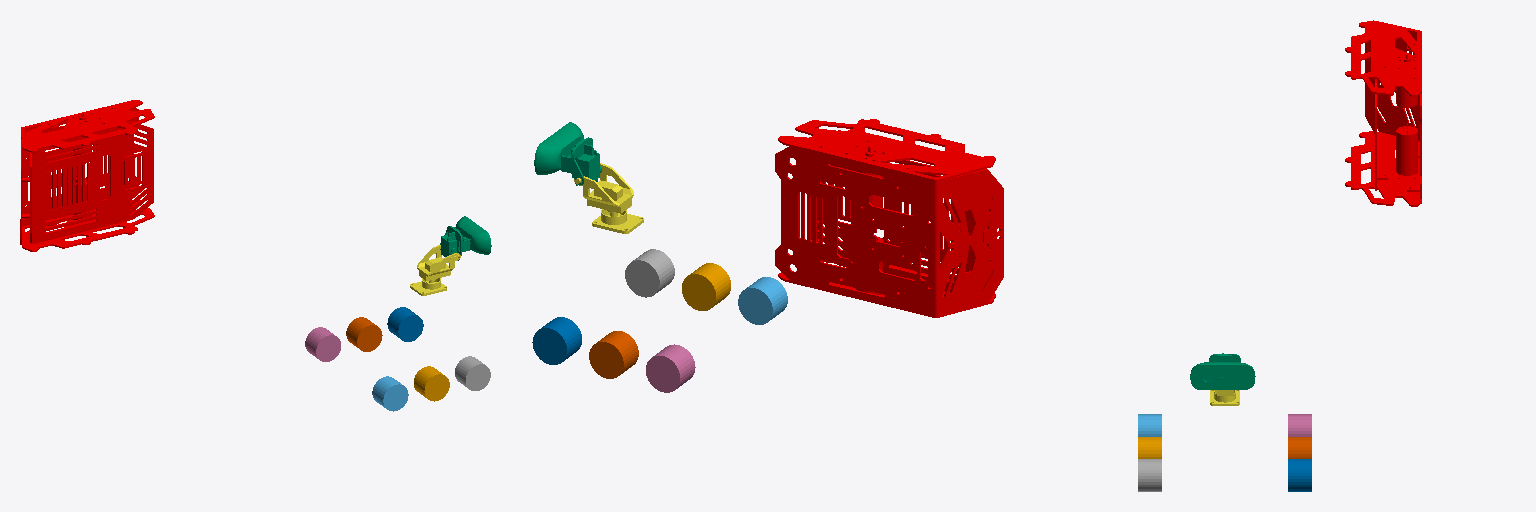
URDF robot description (robot):
<?xml version="1.0" ?>
<!-- =================================================================================== -->
<!-- |    This document was autogenerated by xacro from /catkin_ws/src/ros_tank/urdf/robot.xacro | -->
<!-- |    EDITING THIS FILE BY HAND IS NOT RECOMMENDED                                 | -->
<!-- =================================================================================== -->
<robot name="robot">
    <!-- Colors -->
    <gazebo reference="link_chassis">
        <material>Gazebo/Blue</material>
        <plugin name="gazebo_ros_control">
            <robotNamespace>/</robotNamespace>
        </plugin>
    </gazebo>
    <gazebo reference="link_front_left_wheel">
        <material>Gazebo/Black</material>
        <mu1>0</mu1>
        <mu2>0</mu2>
    </gazebo>
    <gazebo reference="link_rear_right_wheel">
        <material>Gazebo/Black</material>
        <mu1>0</mu1>
        <mu2>0</mu2>
    </gazebo>
    <gazebo reference="link_rear_left_wheel">
        <material>Gazebo/Black</material>
        <mu1>0</mu1>
        <mu2>0</mu2>
    </gazebo>
    <gazebo reference="link_front_right_wheel">
        <material>Gazebo/Black</material>
        <mu1>0</mu1>
        <mu2>0</mu2>
    </gazebo>
    <gazebo reference="link_middle_right_wheel">
        <material>Gazebo/Black</material>
        <mu1>0.1</mu1>
        <mu2>0.1</mu2>
    </gazebo>
    <gazebo reference="link_middle_left_wheel">
        <material>Gazebo/Black</material>
        <mu1>0.1</mu1>
        <mu2>0.1</mu2>
    </gazebo>
    <!-- Gazebo tags - Laser scan -->
    <gazebo reference="joint_laser_scan_chassis">
        <preserveFixedJoint>true</preserveFixedJoint>
    </gazebo>
    <gazebo reference="link_laser_scan">
        <material>Gazebo/DarkGrey</material>
    </gazebo>
    <!-- <gazebo reference="joint_chassis_left_front_wheel">
        <preserveFixedJoint>true</preserveFixedJoint>
    </gazebo>
    <gazebo reference="joint_chassis_left_rear_wheel">
        <preserveFixedJoint>true</preserveFixedJoint>
    </gazebo>
    <gazebo reference="joint_chassis_right_front_wheel">
        <preserveFixedJoint>true</preserveFixedJoint>
    </gazebo>
    <gazebo reference="joint_chassis_right_rear_wheel">
        <preserveFixedJoint>true</preserveFixedJoint>
    </gazebo>  
     -->
    <gazebo reference="link_laser_scan">
        <sensor name="head_hokuyo_sensor" type="ray">
            <pose>0 0 0 0 0 0</pose>
            <visualize>true</visualize>
            <update_rate>20</update_rate>
            <ray>
                <scan>
                    <horizontal>
                        <samples>720</samples>
                        <resolution>1</resolution>
                        <min_angle>-3.14</min_angle>
                        <max_angle>3.14</max_angle>
                    </horizontal>
                </scan>
                <range>
                    <min>0.20</min>
                    <max>12.0</max>
                    <resolution>0.01</resolution>
                </range>
                <noise>
                    <type>gaussian</type>
                    <mean>0.0</mean>
                    <stddev>0.01</stddev>
                </noise>
            </ray>
            <plugin filename="libgazebo_ros_laser.so" name="gazebo_ros_head_hokuyo_controller">
                <topicName>/laser/scan</topicName>
                <frameName>link_chassis</frameName>
            </plugin>
        </sensor>
    </gazebo>
    <!-- camera -->
    <gazebo reference="camera_link">
        <sensor name="camera_robot" type="camera">
            <camera>
                <pose>0 0 0 0 0 0</pose>
                <visualize>true</visualize>
                <update_rate>10</update_rate>
                <horizontal_fov>1.089</horizontal_fov>
                <image>
                    <format>R8G8B8</format>
                    <width>640</width>
                    <height>480</height>
                </image>
                <noise>
                    <type>gaussian</type>
                    <mean>0.0</mean>
                    <stddev>0.007</stddev>
                </noise>
            </camera>
            <plugin filename="libgazebo_ros_camera.so" name="camera_controller">
                <alwaysOn>true</alwaysOn>
                <updateRate>0.0</updateRate>
                <imageTopicName>image_raw</imageTopicName>
                <cameraName>camera</cameraName>
                <cameraInfoTopicName>camera_info</cameraInfoTopicName>
                <frameName>link_chassis</frameName>
            </plugin>
        </sensor>
    </gazebo>
    <gazebo>
        <plugin filename="libgazebo_ros_diff_drive.so" name="differential_drive_controller">
            <alwaysOn>true</alwaysOn>
            <updateRate>20</updateRate>
            <leftJoint>joint_chassis_left_middle_wheel</leftJoint>
            <rightJoint>joint_chassis_right_middle_wheel</rightJoint>
            <wheelSeparation>0.14</wheelSeparation>
            <wheelDiameter>0.04</wheelDiameter>
            <torque>10</torque>
            <wheelTorque>5</wheelTorque>
            <commandTopic>cmd_vel</commandTopic>
            <odometryTopic>odom</odometryTopic>
            <odometryFrame>odom</odometryFrame>
            <robotBaseFrame>link_chassis</robotBaseFrame>
            <publishWheelTF>false</publishWheelTF>
            <publishWheelJointState>false</publishWheelJointState>
            <publishOdomTF>true</publishOdomTF>
            <wheelAcceleration>0</wheelAcceleration>
            <rosDebugLevel>na</rosDebugLevel>
            <odometrySource>world</odometrySource>
            <publishTf>1</publishTf>
        </plugin>
    </gazebo>
    <link name="world" />
    <joint name="joint_world" type="fixed">
        <origin rpy="0 0 0" xyz="0 0 0" />
        <child link="link_chassis" />
        <parent link="world" />
    </joint>
    <!-- Laser scan -->
    <joint name="joint_laser_scan_chassis" type="fixed">
        <origin rpy="0 0 0" xyz="-0.01 0 0.11" />
        <child link="link_laser_scan" />
        <parent link="link_chassis" />
        <joint_properties damping="1.0" friction="1.0" />
    </joint>
    <link name="link_laser_scan">
        <inertial>
            <origin rpy="0 0 0" xyz="0 0 0" />
            <mass value="0.5" />
            <inertia ixx="0.000252666666667" ixy="0" ixz="0" iyy="0.000252666666667" iyz="0" izz="0.0005" />
        </inertial>
        <visual>
            <origin rpy="0 0 0" xyz="0 0 0" />
            <geometry>
                <mesh filename="package://ros_tank/meshes/lidarA1.stl" pose="0 0 0" scale="0.00111 0.00111 0.0011" />
                <!-- <cylinder radius="0.04" length="0.04"/> -->
            </geometry>
            <material name="Red">
                <color rgba="0.7 0.1 0.1 1" />
            </material>
        </visual>
        <collision>
            <origin rpy="0 0 0" xyz="0 0 0" />
            <geometry>
                <mesh filename="package://ros_tank/meshes/lidarA1.stl" pose="0 0 0" scale="0.00111 0.00111 0.0011" />
                <!-- <cylinder radius="0.04" length="0.04"/> -->
            </geometry>
        </collision>
    </link>
    <!-- Camera -->
    <joint name="camera_joint" type="fixed">
        <parent link="camera_second_servo_link" />
        <child link="camera_link" />
        <origin rpy="0 0 0" xyz="0.033 0 0.017" />
    </joint>
    <link name="camera_link">
        <collision>
            <origin rpy="0 0 0" xyz="0 0 0" />
            <geometry>
                <mesh filename="package://ros_tank/meshes/camera.stl" pose="0 0 0" scale="0.00111 0.00111 0.0011" />
                <!-- <box size="0.02 0.08 0.038"/> -->
            </geometry>
        </collision>
        <visual>
            <geometry>
                <mesh filename="package://ros_tank/meshes/camera.stl" pose="0 0 0" scale="0.00111 0.00111 0.0011" />
                <!-- <box size="0.02 0.08 0.038"/> -->
            </geometry>
        </visual>
        <inertial>
            <mass value="0.1" />
            <origin xyz="0 0 0" rpy="0 0 0" />
            <inertia ixx="0.03" iyy="0.03" izz="0.03" ixy="0.0" ixz="0.0" iyz="0.0" />
        </inertial>
    </link>
    <!-- Link - chassis -->
    <link name="link_chassis">
        <collision>
            <origin rpy="0 0 0" xyz="0 0 0" />
            <geometry>
                <!-- <box size="0.22 0.14 0.25" /> -->
                <mesh filename="package://ros_tank/meshes/tank_body.stl" pose="0 0 0" scale="0.00111 0.00111 0.0011" />
            </geometry>
        </collision>
        <visual>
            <geometry>
                <!-- <box size="0.22 0.14 0.25" /> -->
                <mesh filename="package://ros_tank/meshes/tank_body.stl" pose="0 0 0" scale="0.00111 0.00111 0.0011" />
            </geometry>
            <material name="Red">
                <color rgba="1 0 0 1" />
            </material>
        </visual>
        <inertial>
            <mass value="0.1" />
            <origin xyz="0 0 0" rpy="0 0 0" />
            <inertia ixx="0.03" iyy="0.03" izz="0.03" ixy="0.0" ixz="0.0" iyz="0.0" />
        </inertial>
    </link>
    <!-- Joint - chassis / left front wheel -->
    <joint name="joint_chassis_left_front_wheel" type="fixed">
        <origin rpy="0 0 0" xyz="0.065 0.077 -0.12" />
        <child link="link_front_left_wheel" />
        <parent link="link_chassis" />
        <axis rpy="0 0 0" xyz="0 1 0" />
        <limit effort="10000" velocity="1000" />
        <joint_properties damping="1.0" friction="1.0" />
    </joint>
    <!-- Link - left front wheel -->
    <link name="link_front_left_wheel">
        <inertial>
            <mass value="10" />
            <origin rpy="0 0 0" xyz="0 0 0.3" />
            <inertia ixx="1.5417" ixy="0" ixz="0" iyy="3.467" iyz="0" izz="4.742" />
        </inertial>
        <collision>
            <origin rpy="1.5707 0 0" xyz="0 -0.015 0" />
            <geometry>
                <cylinder length="0.03" radius="0.02" />
            </geometry>
        </collision>
        <visual>
            <origin rpy="1.5707 0 0" xyz="0 0.015 0" />
            <geometry>
                <cylinder length="0.03" radius="0.02" />
            </geometry>
        </visual>
    </link>
    <!-- Joint - chassis / left middle wheel -->
    <joint name="joint_chassis_left_middle_wheel" type="continuous">
        <origin rpy="0 0 0" xyz="0 0.077 -0.12" />
        <child link="link_middle_left_wheel" />
        <parent link="link_chassis" />
        <axis rpy="0 0 0" xyz="0 1 0" />
        <limit effort="10000" velocity="1000" />
        <joint_properties damping="1.0" friction="1.0" />
    </joint>
    <!-- Link - left middle wheel -->
    <link name="link_middle_left_wheel">
        <inertial>
            <mass value="10" />
            <origin rpy="0 0 0" xyz="0 0 0.3" />
            <inertia ixx="1.5417" ixy="0" ixz="0" iyy="3.467" iyz="0" izz="4.742" />
        </inertial>
        <collision>
            <origin rpy="1.5707 0 0" xyz="0 0.015 0" />
            <geometry>
                <cylinder length="0.03" radius="0.02" />
            </geometry>
        </collision>
        <visual>
            <origin rpy="1.5707 0 0" xyz="0 0.015 0" />
            <geometry>
                <cylinder length="0.03" radius="0.02" />
            </geometry>
        </visual>
    </link>
    <!-- Joint - chassis / left rear wheel -->
    <joint name="joint_chassis_left_rear_wheel" type="fixed">
        <origin rpy="0 0 0" xyz="-0.065 0.077 -0.12" />
        <child link="link_rear_left_wheel" />
        <parent link="link_chassis" />
        <axis rpy="0 0 0" xyz="0 1 0" />
        <limit effort="10000" velocity="1000" />
        <joint_properties damping="1.0" friction="1.0" />
    </joint>
    <!-- Link - left rear wheel -->
    <link name="link_rear_left_wheel">
        <inertial>
            <mass value="10" />
            <origin rpy="0 0 0" xyz="0 0 0.3" />
            <inertia ixx="1.5417" ixy="0" ixz="0" iyy="3.467" iyz="0" izz="4.742" />
        </inertial>
        <collision>
            <origin rpy="1.5707 0 0" xyz="0 0.015 0" />
            <geometry>
                <cylinder length="0.03" radius="0.02" />
            </geometry>
        </collision>
        <visual>
            <origin rpy="1.5707 0 0" xyz="0 0.015 0" />
            <geometry>
                <cylinder length="0.03" radius="0.02" />
            </geometry>
        </visual>
    </link>
    <!-- Joint - chassis / right front wheel -->
    <joint name="joint_chassis_right_front_wheel" type="fixed">
        <origin rpy="0 0 0" xyz="0.065 -0.077 -0.12" />
        <child link="link_front_right_wheel" />
        <parent link="link_chassis" />
        <axis rpy="0 0 0" xyz="0 1 0" />
        <limit effort="10000" velocity="1000" />
        <joint_properties damping="1.0" friction="1.0" />
    </joint>
    <!-- Link - right front wheel -->
    <link name="link_front_right_wheel">
        <inertial>
            <mass value="10" />
            <origin rpy="0 0 0" xyz="0 0 0.3" />
            <inertia ixx="1.5417" ixy="0" ixz="0" iyy="3.467" iyz="0" izz="4.742" />
        </inertial>
        <collision>
            <origin rpy="1.5707 0 0" xyz="0 -0.015 0" />
            <geometry>
                <cylinder length="0.03" radius="0.02" />
            </geometry>
        </collision>
        <visual>
            <origin rpy="1.5707 0 0" xyz="0 -0.015 0" />
            <geometry>
                <cylinder length="0.03" radius="0.02" />
            </geometry>
        </visual>
    </link>
    <!-- Joint - chassis / right middle wheel -->
    <joint name="joint_chassis_right_middle_wheel" type="continuous">
        <origin rpy="0 0 0" xyz="0 -0.077 -0.12" />
        <child link="link_middle_right_wheel" />
        <parent link="link_chassis" />
        <axis rpy="0 0 0" xyz="0 1 0" />
        <limit effort="10000" velocity="1000" />
        <joint_properties damping="1.0" friction="1.0" />
    </joint>
    <!-- Link - right middle wheel -->
    <link name="link_middle_right_wheel">
        <inertial>
            <mass value="10" />
            <origin rpy="0 0 0" xyz="0 0 0.3" />
            <inertia ixx="1.5417" ixy="0" ixz="0" iyy="3.467" iyz="0" izz="4.742" />
        </inertial>
        <collision>
            <origin rpy="1.5707 0 0" xyz="0 -0.015 0" />
            <geometry>
                <cylinder length="0.03" radius="0.02" />
            </geometry>
        </collision>
        <visual>
            <origin rpy="1.5707 0 0" xyz="0 -0.015 0" />
            <geometry>
                <cylinder length="0.03" radius="0.02" />
            </geometry>
        </visual>
    </link>
    <!-- Joint - chassis / right rear wheel -->
    <joint name="joint_chassis_right_rear_wheel" type="fixed">
        <origin rpy="0 0 0" xyz="-0.065 -0.077 -0.12" />
        <child link="link_rear_right_wheel" />
        <parent link="link_chassis" />
        <axis rpy="0 0 0" xyz="0 1 0" />
        <limit effort="10000" velocity="1000" />
        <joint_properties damping="1.0" friction="1.0" />
    </joint>
    <!-- Link - right rear wheel -->
    <link name="link_rear_right_wheel">
        <inertial>
            <mass value="10" />
            <origin rpy="0 0 0" xyz="0 0 0.3" />
            <inertia ixx="1.5417" ixy="0" ixz="0" iyy="3.467" iyz="0" izz="4.742" />
        </inertial>
        <collision>
            <origin rpy="1.5707 0 0" xyz="0 -0.015 0" />
            <geometry>
                <cylinder length="0.03" radius="0.02" />
            </geometry>
        </collision>
        <visual>
            <origin rpy="1.5707 0 0" xyz="0 -0.015 0" />
            <geometry>
                <cylinder length="0.03" radius="0.02" />
            </geometry>
        </visual>
    </link>
    <!-- Joint - camera second servo -->
    <joint name="camera_servo_second_joint" type="revolute">
        <origin rpy="0 0 0" xyz="0.03 -0.005 0.02" />
        <parent link="camera_servo_first_link" />
        <child link="camera_second_servo_link" />
        <axis xyz="0 1 0" />
        <limit effort="100" lower="-1.15" upper="1.4" velocity="100" />
    </joint>
    <!-- Link - camera second servo -->
    <link name="camera_second_servo_link">
        <visual>
            <origin rpy="0 0 0" xyz="0 0 0" />
            <geometry>
                <!-- <box size="0.02 0.03 0.03" /> -->
                <mesh filename="package://ros_tank/meshes/camera_servo_2.stl" pose="0 0 0" scale="0.0011 0.00111 0.0011" />
            </geometry>
            <material name="orange" />
        </visual>
        <collision>
            <origin rpy="0 0 0" xyz="0 0 0" />
            <geometry>
                <!-- <box size="0.02 0.03 0.03" /> -->
                <mesh filename="package://ros_tank/meshes/camera_servo_2.stl" pose="0 0 0" scale="0.0011 0.00111 0.0011" />
            </geometry>
        </collision>
        <inertial>
            <mass value="0.1" />
            <origin xyz="0 0 0" rpy="0 0 0" />
            <inertia ixx="0.03" iyy="0.03" izz="0.03" ixy="0.0" ixz="0.0" iyz="0.0" />
        </inertial>
    </link>
    <!-- Joint - camera first servo -->
    <joint name="camera_servo_first_joint" type="revolute">
        <origin rpy="0 0 0" xyz="0.053 0 0" />
        <parent link="link_chassis" />
        <child link="camera_servo_first_link" />
        <axis xyz="0 0 1" />
        <limit effort="100" lower="-1.15" upper="1.4" velocity="100" />
    </joint>
    <!-- Link - camera first servo -->
    <link name="camera_servo_first_link">
        <visual>
            <origin rpy="0 0 0" xyz="0 0 0" />
            <geometry>
                <mesh filename="package://ros_tank/meshes/camera_servo_1.stl" pose="0 0 0" scale="0.0011 0.00111 0.0011" />
                <!-- <box size="0.03 0.04 0.05" /> -->
            </geometry>
            <material name="orange" />
        </visual>
        <collision>
            <origin rpy="0 0 0" xyz="0 0 0" />
            <geometry>
                <mesh filename="package://ros_tank/meshes/camera_servo_1.stl" pose="0 0 0" scale="0.0011 0.00111 0.0011" />
                <!-- <box size="0.03 0.04 0.05" /> -->
            </geometry>
        </collision>
        <inertial>
            <mass value="0.1" />
            <origin xyz="0 0 0" rpy="0 0 0" />
            <inertia ixx="0.03" iyy="0.03" izz="0.03" ixy="0.0" ixz="0.0" iyz="0.0" />
        </inertial>
    </link>
    <transmission name="trans_joint_chassis_left_middle_wheel">
        <type>transmission_interface/SimpleTransmission</type>
        <joint name="joint_chassis_left_middle_wheel">
            <hardwareInterface>hardware_interface/EffortJointInterface</hardwareInterface>
        </joint>
        <actuator name="joint_chassis_left_middle_wheel_motor">
            <hardwareInterface>hardware_interface/EffortJointInterface</hardwareInterface>
            <mechanicalReduction>1</mechanicalReduction>
        </actuator>
    </transmission>
    <transmission name="trans_joint_chassis_right_middle_wheel">
        <type>transmission_interface/SimpleTransmission</type>
        <joint name="joint_chassis_right_middle_wheel">
            <hardwareInterface>hardware_interface/EffortJointInterface</hardwareInterface>
        </joint>
        <actuator name="joint_chassis_right_middle_wheel_motor">
            <hardwareInterface>hardware_interface/EffortJointInterface</hardwareInterface>
            <mechanicalReduction>1</mechanicalReduction>
        </actuator>
    </transmission>
    <transmission name="trans_camera_servo_second_joint">
        <type>transmission_interface/SimpleTransmission</type>
        <joint name="camera_servo_second_joint">
            <hardwareInterface>hardware_interface/EffortJointInterface</hardwareInterface>
        </joint>
        <actuator name="camera_servo_second_joint_motor">
            <hardwareInterface>hardware_interface/EffortJointInterface</hardwareInterface>
            <mechanicalReduction>1</mechanicalReduction>
        </actuator>
    </transmission>
    <transmission name="trans_camera_servo_first_joint">
        <type>transmission_interface/SimpleTransmission</type>
        <joint name="camera_servo_first_joint">
            <hardwareInterface>hardware_interface/EffortJointInterface</hardwareInterface>
        </joint>
        <actuator name="camera_servo_first_joint_motor">
            <hardwareInterface>hardware_interface/EffortJointInterface</hardwareInterface>
            <mechanicalReduction>1</mechanicalReduction>
        </actuator>
    </transmission>
</robot>

--- What the picture shows (computed from the rendered views, not written in the file) ---
Views: 3 orthographic renders of the robot side by side, from view 1: azimuth 30°, elevation 25°; view 2: azimuth 150°, elevation 25°; view 3: azimuth 270°, elevation 25°.
Model robot with 12 links and 11 joints (2 revolute, 2 continuous, 7 fixed), rooted at world, posed all joints at 0.
Links seen in each view (by area): view 1: link_chassis, camera_servo_first_link, link_front_left_wheel, link_middle_right_wheel, link_rear_right_wheel, link_rear_left_wheel, link_middle_left_wheel, link_front_right_wheel, camera_link, camera_second_servo_link; view 2: link_chassis, camera_servo_first_link, link_rear_right_wheel, link_middle_left_wheel, link_front_right_wheel, link_rear_left_wheel, link_middle_right_wheel, link_front_left_wheel, camera_link, camera_second_servo_link; view 3: link_chassis, camera_link, link_front_left_wheel, link_front_right_wheel, link_rear_left_wheel, link_rear_right_wheel, link_middle_left_wheel, link_middle_right_wheel.
Link boxes in pixels (box(x1,y1,x2,y2)): link_chassis: box(20, 100, 154, 251); camera_servo_first_link: box(410, 245, 460, 295); link_front_left_wheel: box(387, 307, 423, 341); link_middle_right_wheel: box(414, 366, 449, 401); link_rear_right_wheel: box(372, 376, 408, 411); link_rear_left_wheel: box(305, 327, 340, 361); link_middle_left_wheel: box(346, 317, 382, 351); link_front_right_wheel: box(455, 356, 490, 390); camera_link: box(455, 216, 491, 254); camera_second_servo_link: box(440, 226, 470, 260); link_chassis: box(775, 119, 1003, 317); camera_servo_first_link: box(574, 163, 643, 233); link_rear_right_wheel: box(738, 277, 787, 324); link_middle_left_wheel: box(589, 331, 638, 378); link_front_right_wheel: box(625, 249, 674, 297); link_rear_left_wheel: box(646, 344, 695, 392); link_middle_right_wheel: box(682, 263, 730, 310); link_front_left_wheel: box(532, 317, 581, 364); camera_link: box(534, 122, 583, 174); camera_second_servo_link: box(561, 137, 601, 185); link_chassis: box(1345, 20, 1421, 206); camera_link: box(1190, 362, 1255, 389); link_front_left_wheel: box(1288, 459, 1311, 491); link_front_right_wheel: box(1138, 459, 1161, 491); link_rear_left_wheel: box(1288, 414, 1311, 436); link_rear_right_wheel: box(1138, 414, 1161, 436); link_middle_left_wheel: box(1288, 437, 1311, 458); link_middle_right_wheel: box(1138, 437, 1161, 458).
Bounding box of the posed robot: 0.6185 × 0.3489 × 0.3876 m (x, y, z).
Meshes: 5 distinct files referenced, 4 mesh visuals loaded (4 binary STL); not drawn: 1 (reference not matched to a file when rendering).
